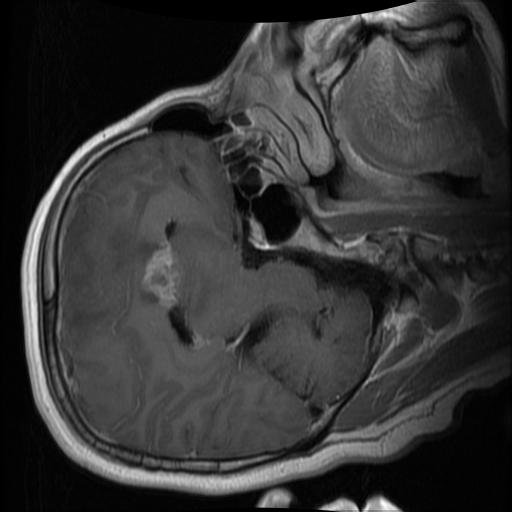glioma: (140, 244, 182, 309)
